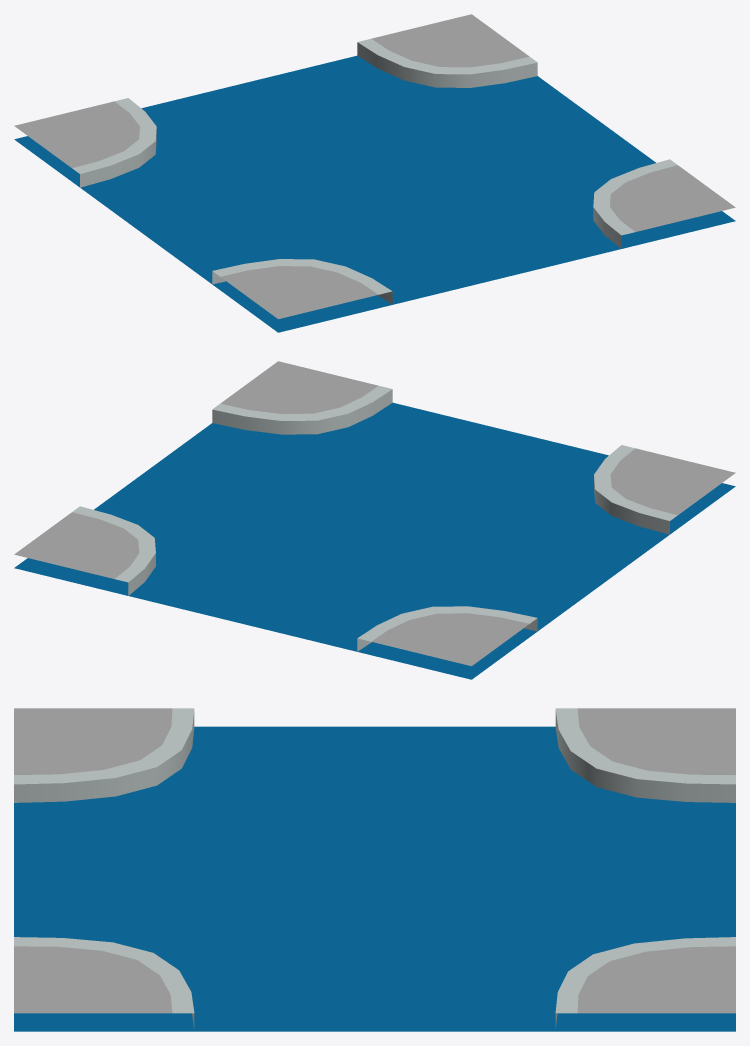
Rendered from Intersection_Narrow.fbx.
The picture shows the model from 3 angles, top to bottom: view 1: azimuth 30°, elevation 25°; view 2: azimuth 150°, elevation 25°; view 3: azimuth 270°, elevation 25°; orthographic projection. The views are drawn at different scales.
Visible parts, largest first — view 1: Intersection_Narrow; view 2: Intersection_Narrow; view 3: Intersection_Narrow.
Part boxes in pixels (left/top/right/bottom): Intersection_Narrow: left=14, top=14, right=735, bottom=332; Intersection_Narrow: left=14, top=361, right=735, bottom=679; Intersection_Narrow: left=14, top=708, right=735, bottom=1031.
Size of the model in its own units: 800 by 22.59 by 800.
